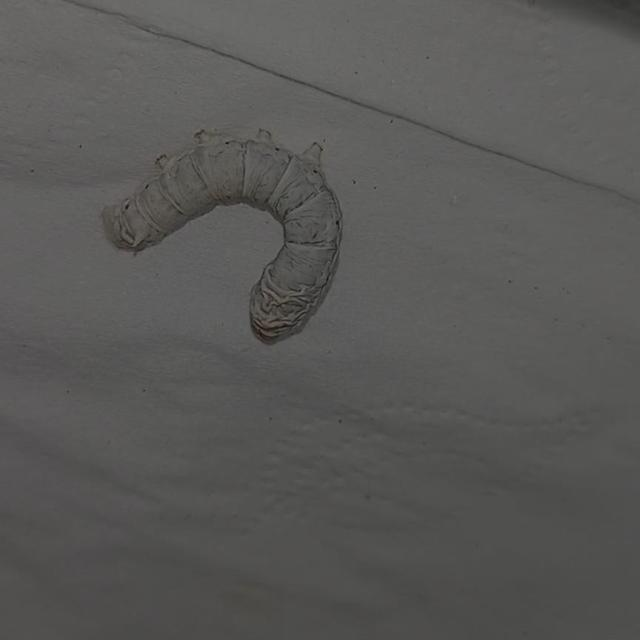Healthy: (76, 107, 383, 369)
